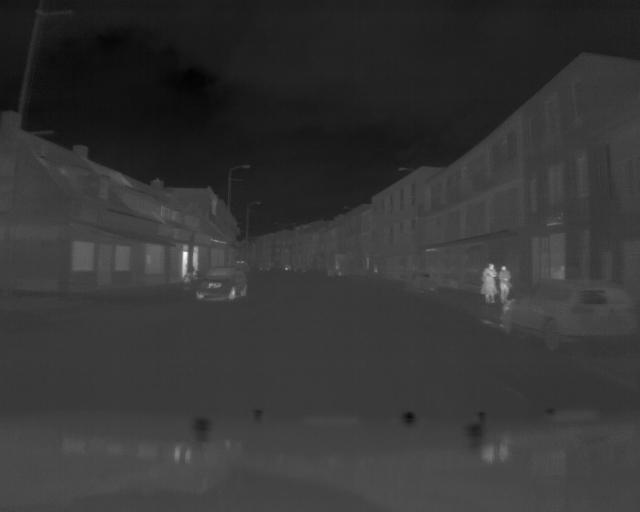car: (500, 280, 603, 354), (193, 263, 252, 305)
person: (478, 260, 498, 307), (495, 262, 511, 304)
